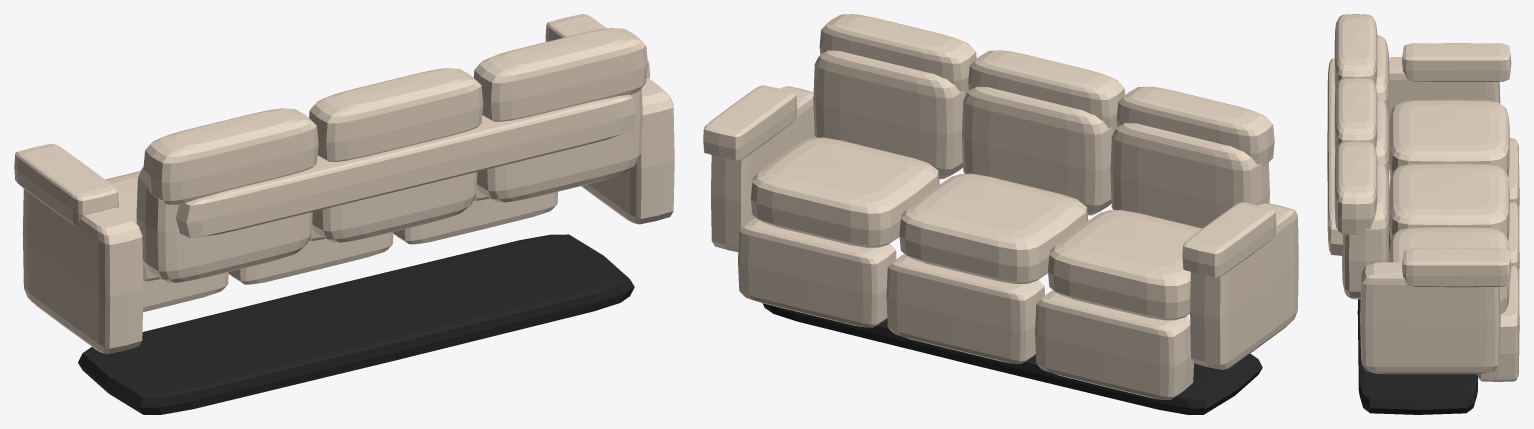
Rendered from drake-3-seater.glb.
3 views of the same model, side by side, from view 1: azimuth 30°, elevation 25°; view 2: azimuth 150°, elevation 25°; view 3: azimuth 270°, elevation 25° (orthographic). The views are drawn at different scales.
Visible parts, largest first — view 1: lower_base, back_shell, arm_L, headrest_1, headrest_3, headrest_2, back_lower_1, back_lower_3, arm_R, back_lower_2, armcap_L, front_apron_3 (+4 smaller); view 2: seat_cushion_2, seat_cushion_3, back_lower_3, back_lower_2, seat_cushion_1, front_apron_1, back_lower_1, front_apron_3, front_apron_2, arm_L, lower_base, headrest_1 (+5 smaller); view 3: arm_R, seat_cushion_2, seat_cushion_1, lower_base, armcap_R, armcap_L, headrest_3, back_lower_3, seat_cushion_3, headrest_2, headrest_1, arm_L (+6 smaller).
Boxes of the visible parts, <box> form: lower_base: <box>78,234,634,414</box>; back_shell: <box>176,94,636,237</box>; arm_L: <box>22,188,143,353</box>; headrest_1: <box>143,108,318,204</box>; headrest_3: <box>473,28,647,121</box>; headrest_2: <box>309,68,483,161</box>; back_lower_1: <box>136,166,312,282</box>; back_lower_3: <box>476,88,642,202</box>; arm_R: <box>581,78,674,224</box>; back_lower_2: <box>312,172,477,242</box>; armcap_L: <box>14,143,118,225</box>; front_apron_3: <box>393,192,557,244</box>; seat_cushion_2: <box>899,173,1088,283</box>; seat_cushion_3: <box>750,137,939,247</box>; back_lower_3: <box>813,50,966,179</box>; back_lower_2: <box>962,86,1114,215</box>; seat_cushion_1: <box>1048,210,1202,320</box>; front_apron_1: <box>1035,290,1193,399</box>; back_lower_1: <box>1110,122,1269,228</box>; front_apron_3: <box>738,217,896,327</box>; front_apron_2: <box>886,254,1044,363</box>; arm_L: <box>1190,203,1298,369</box>; lower_base: <box>762,303,1262,414</box>; headrest_1: <box>1116,86,1274,166</box>; arm_R: <box>1360,262,1500,374</box>; seat_cushion_2: <box>1389,163,1509,240</box>; seat_cushion_1: <box>1389,100,1509,176</box>; lower_base: <box>1357,230,1477,414</box>; armcap_R: <box>1402,248,1511,287</box>; armcap_L: <box>1402,43,1511,81</box>; headrest_3: <box>1334,141,1377,235</box>; back_lower_3: <box>1342,162,1389,299</box>; seat_cushion_3: <box>1389,227,1509,313</box>; headrest_2: <box>1334,77,1377,155</box>; headrest_1: <box>1334,14,1377,92</box>; arm_L: <box>1389,57,1500,168</box>.
Size of the model in its own units: 2.23 by 1.03 by 0.816.
